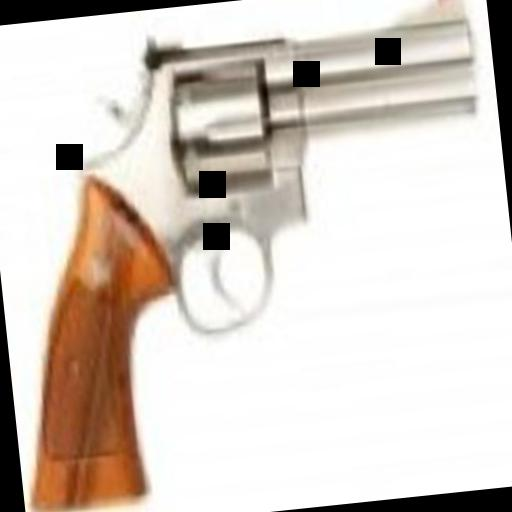Handgun: (0, 0, 509, 501)
